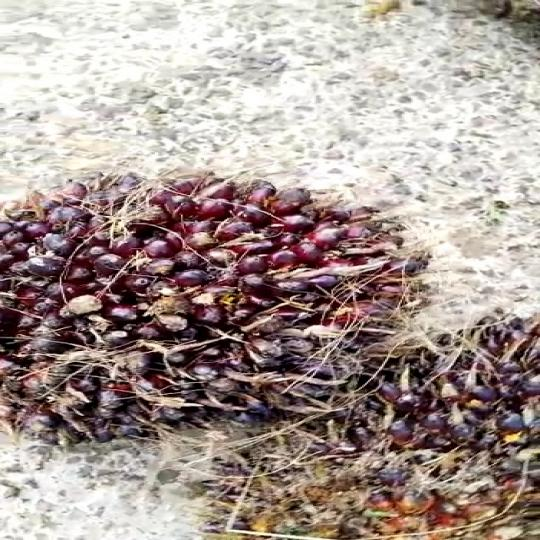kurang masak: (0, 151, 446, 427), (205, 300, 540, 540)
